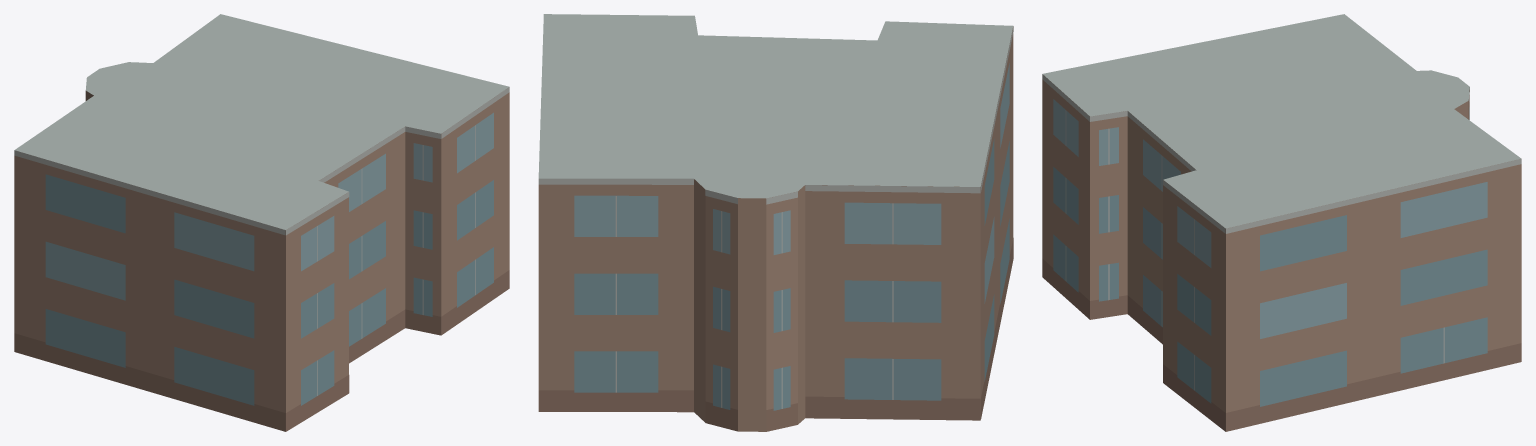
Rendered from survey-upis-32838357.glb.
3 views of the same model, side by side, from view 1: azimuth 30°, elevation 25°; view 2: azimuth 150°, elevation 25°; view 3: azimuth 270°, elevation 25° (orthographic). The views are drawn at different scales.
Parts seen in each view (by area): view 1: survey-upis-32838357.tmp; view 2: survey-upis-32838357.tmp; view 3: survey-upis-32838357.tmp.
Part boxes in pixels (bbox=[...]): survey-upis-32838357.tmp: bbox=[14, 14, 509, 431]; survey-upis-32838357.tmp: bbox=[538, 14, 1013, 431]; survey-upis-32838357.tmp: bbox=[1042, 14, 1521, 431].
Bounding box in the file's own units: 20.72 × 9.15 × 19.56.
